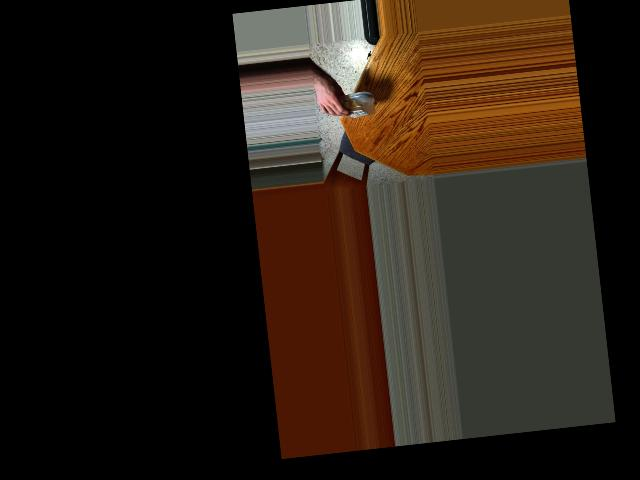cheese: (330, 80, 381, 126)
